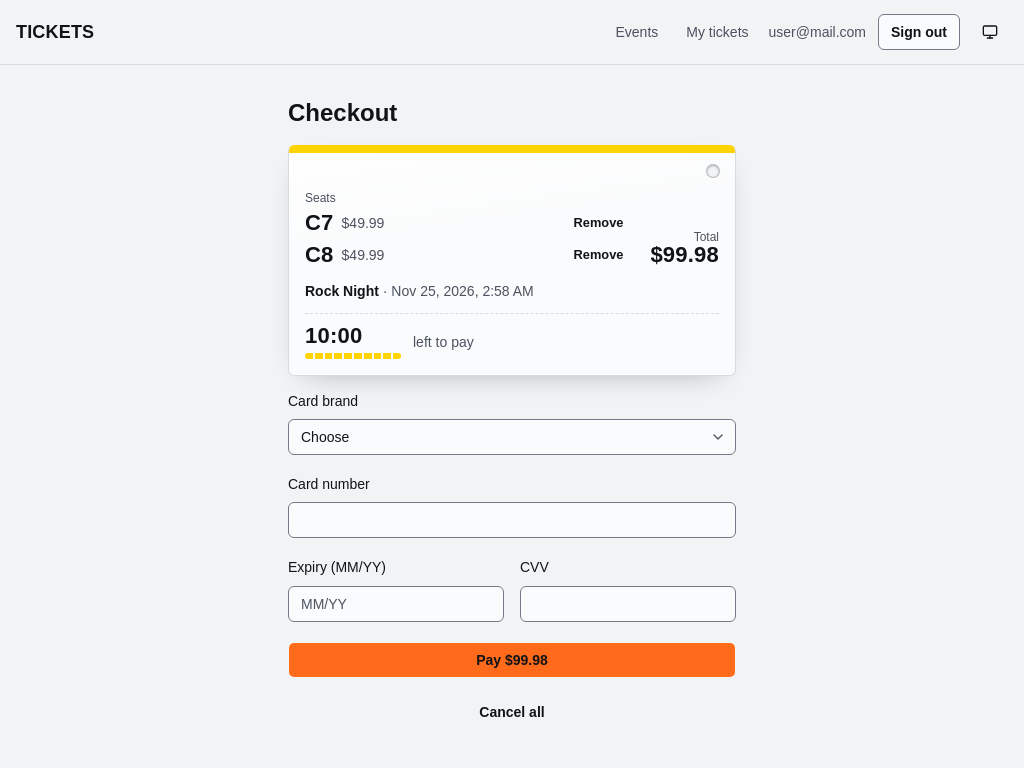
Test: removing a seat from the group › sends nothing when the user closes the dialog
The image size is (1024, 768).
Click the button with aria-label "Remove C7". click: (598, 223)
box: [563,209,634,237]
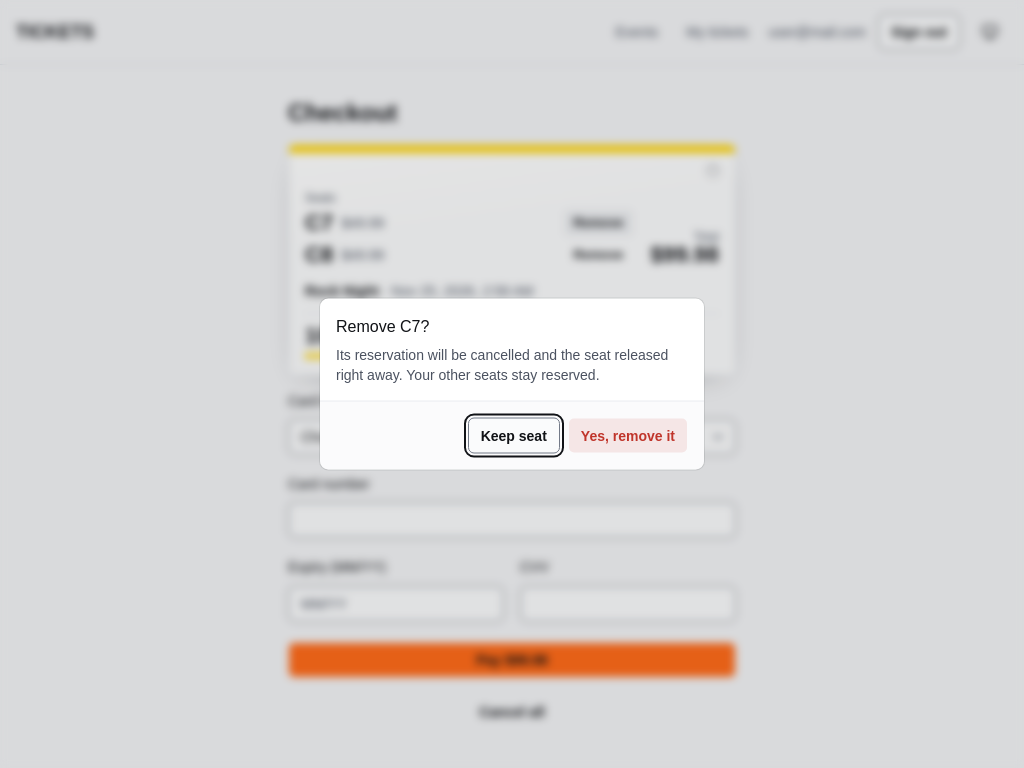
Click the button "Keep seat". click: (514, 436)
box: [468,418,560,454]
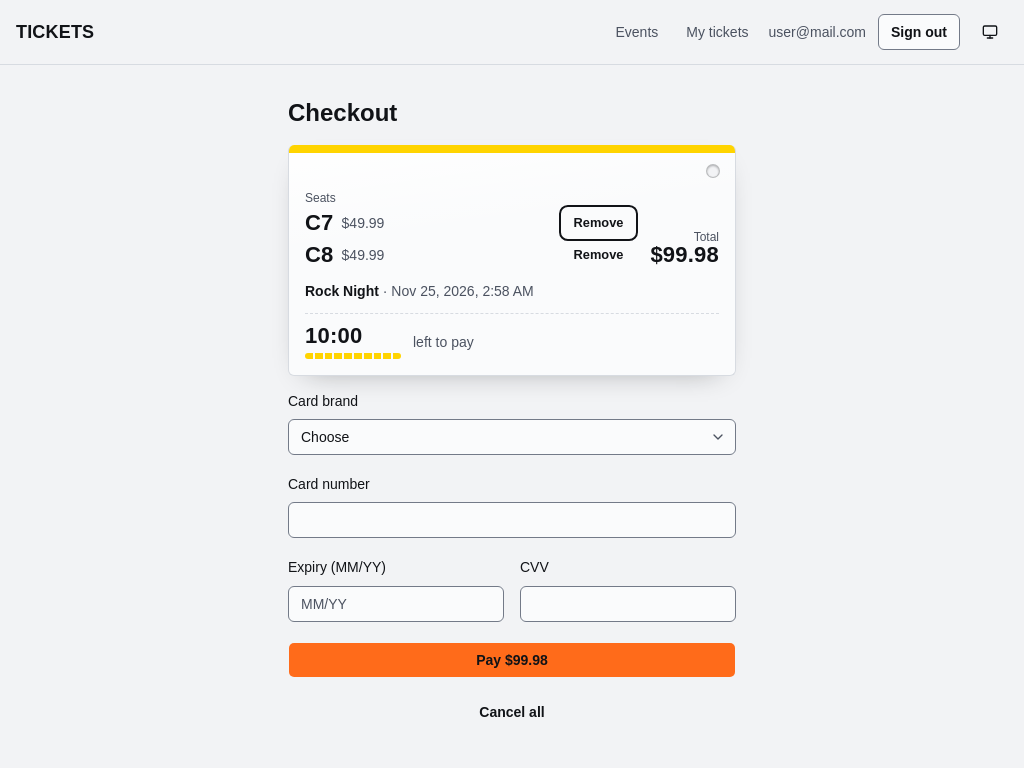
Check: the button "Pay $99.98" is shown, box [288,642,736,678]
Check: the dialog is gone
